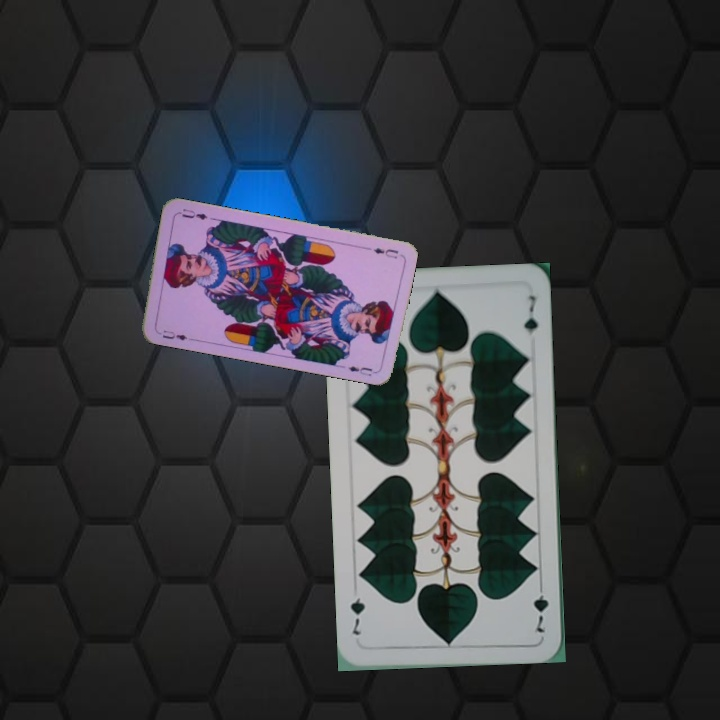EU: (154, 326, 194, 344), (361, 243, 401, 261)
G7: (529, 578, 551, 635)
